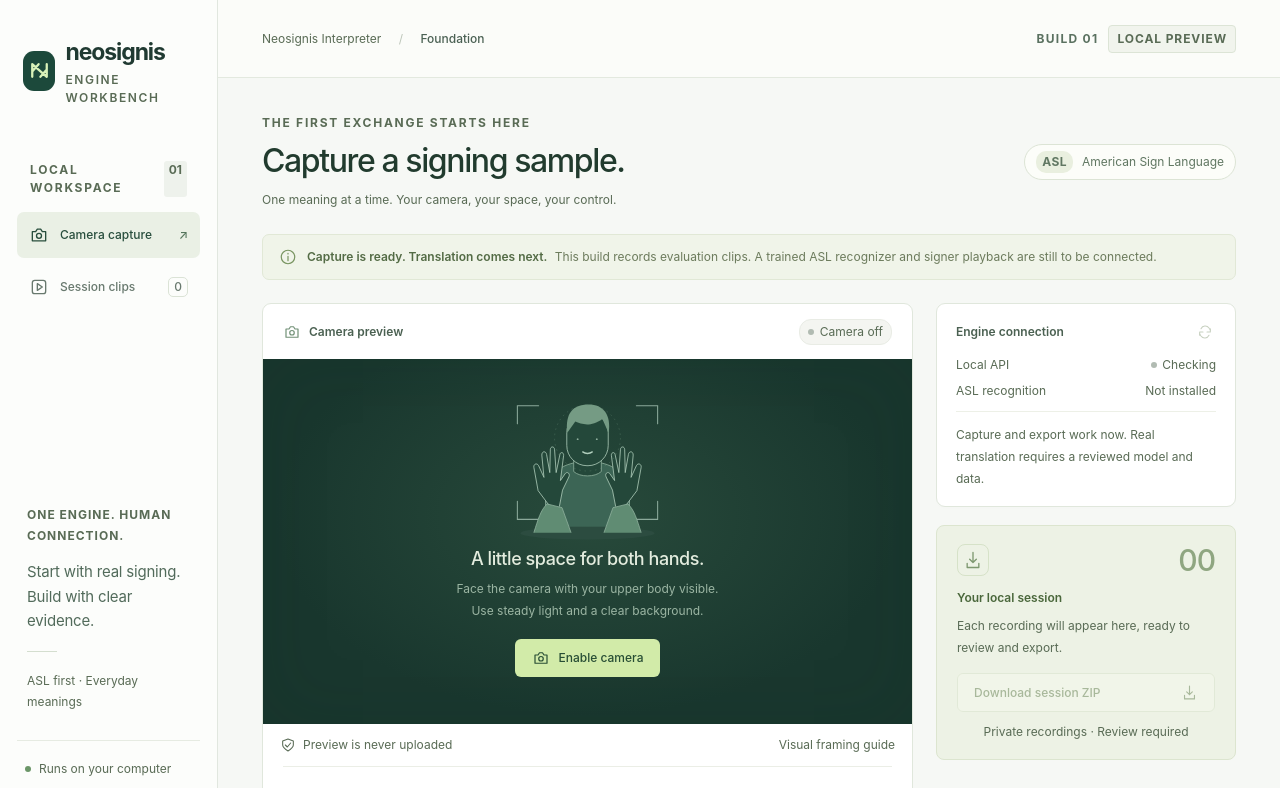
local camera workbench › shows an actionable permission-denied message
Click the button "Enable camera" at (587, 658), box [514,638,660,676]
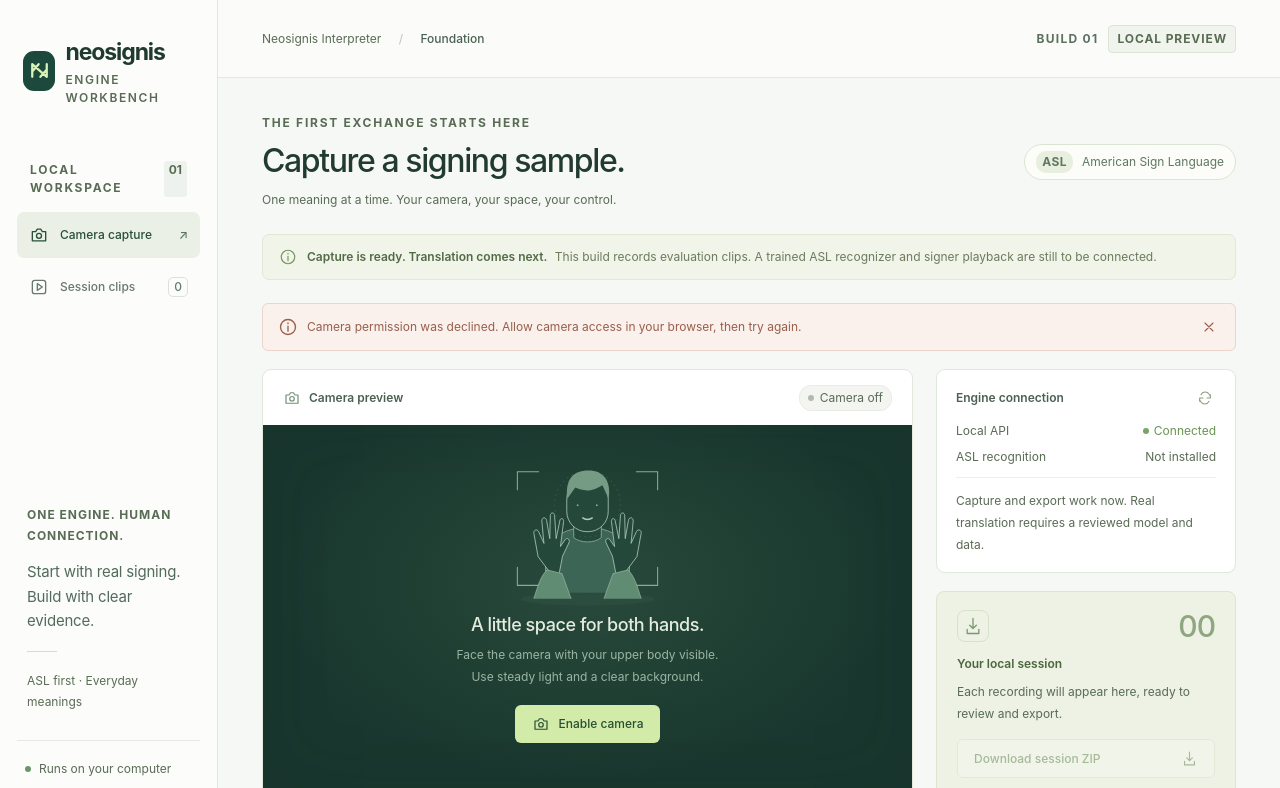
Expected: the message shows "permission was declined", [307,319,802,334]
